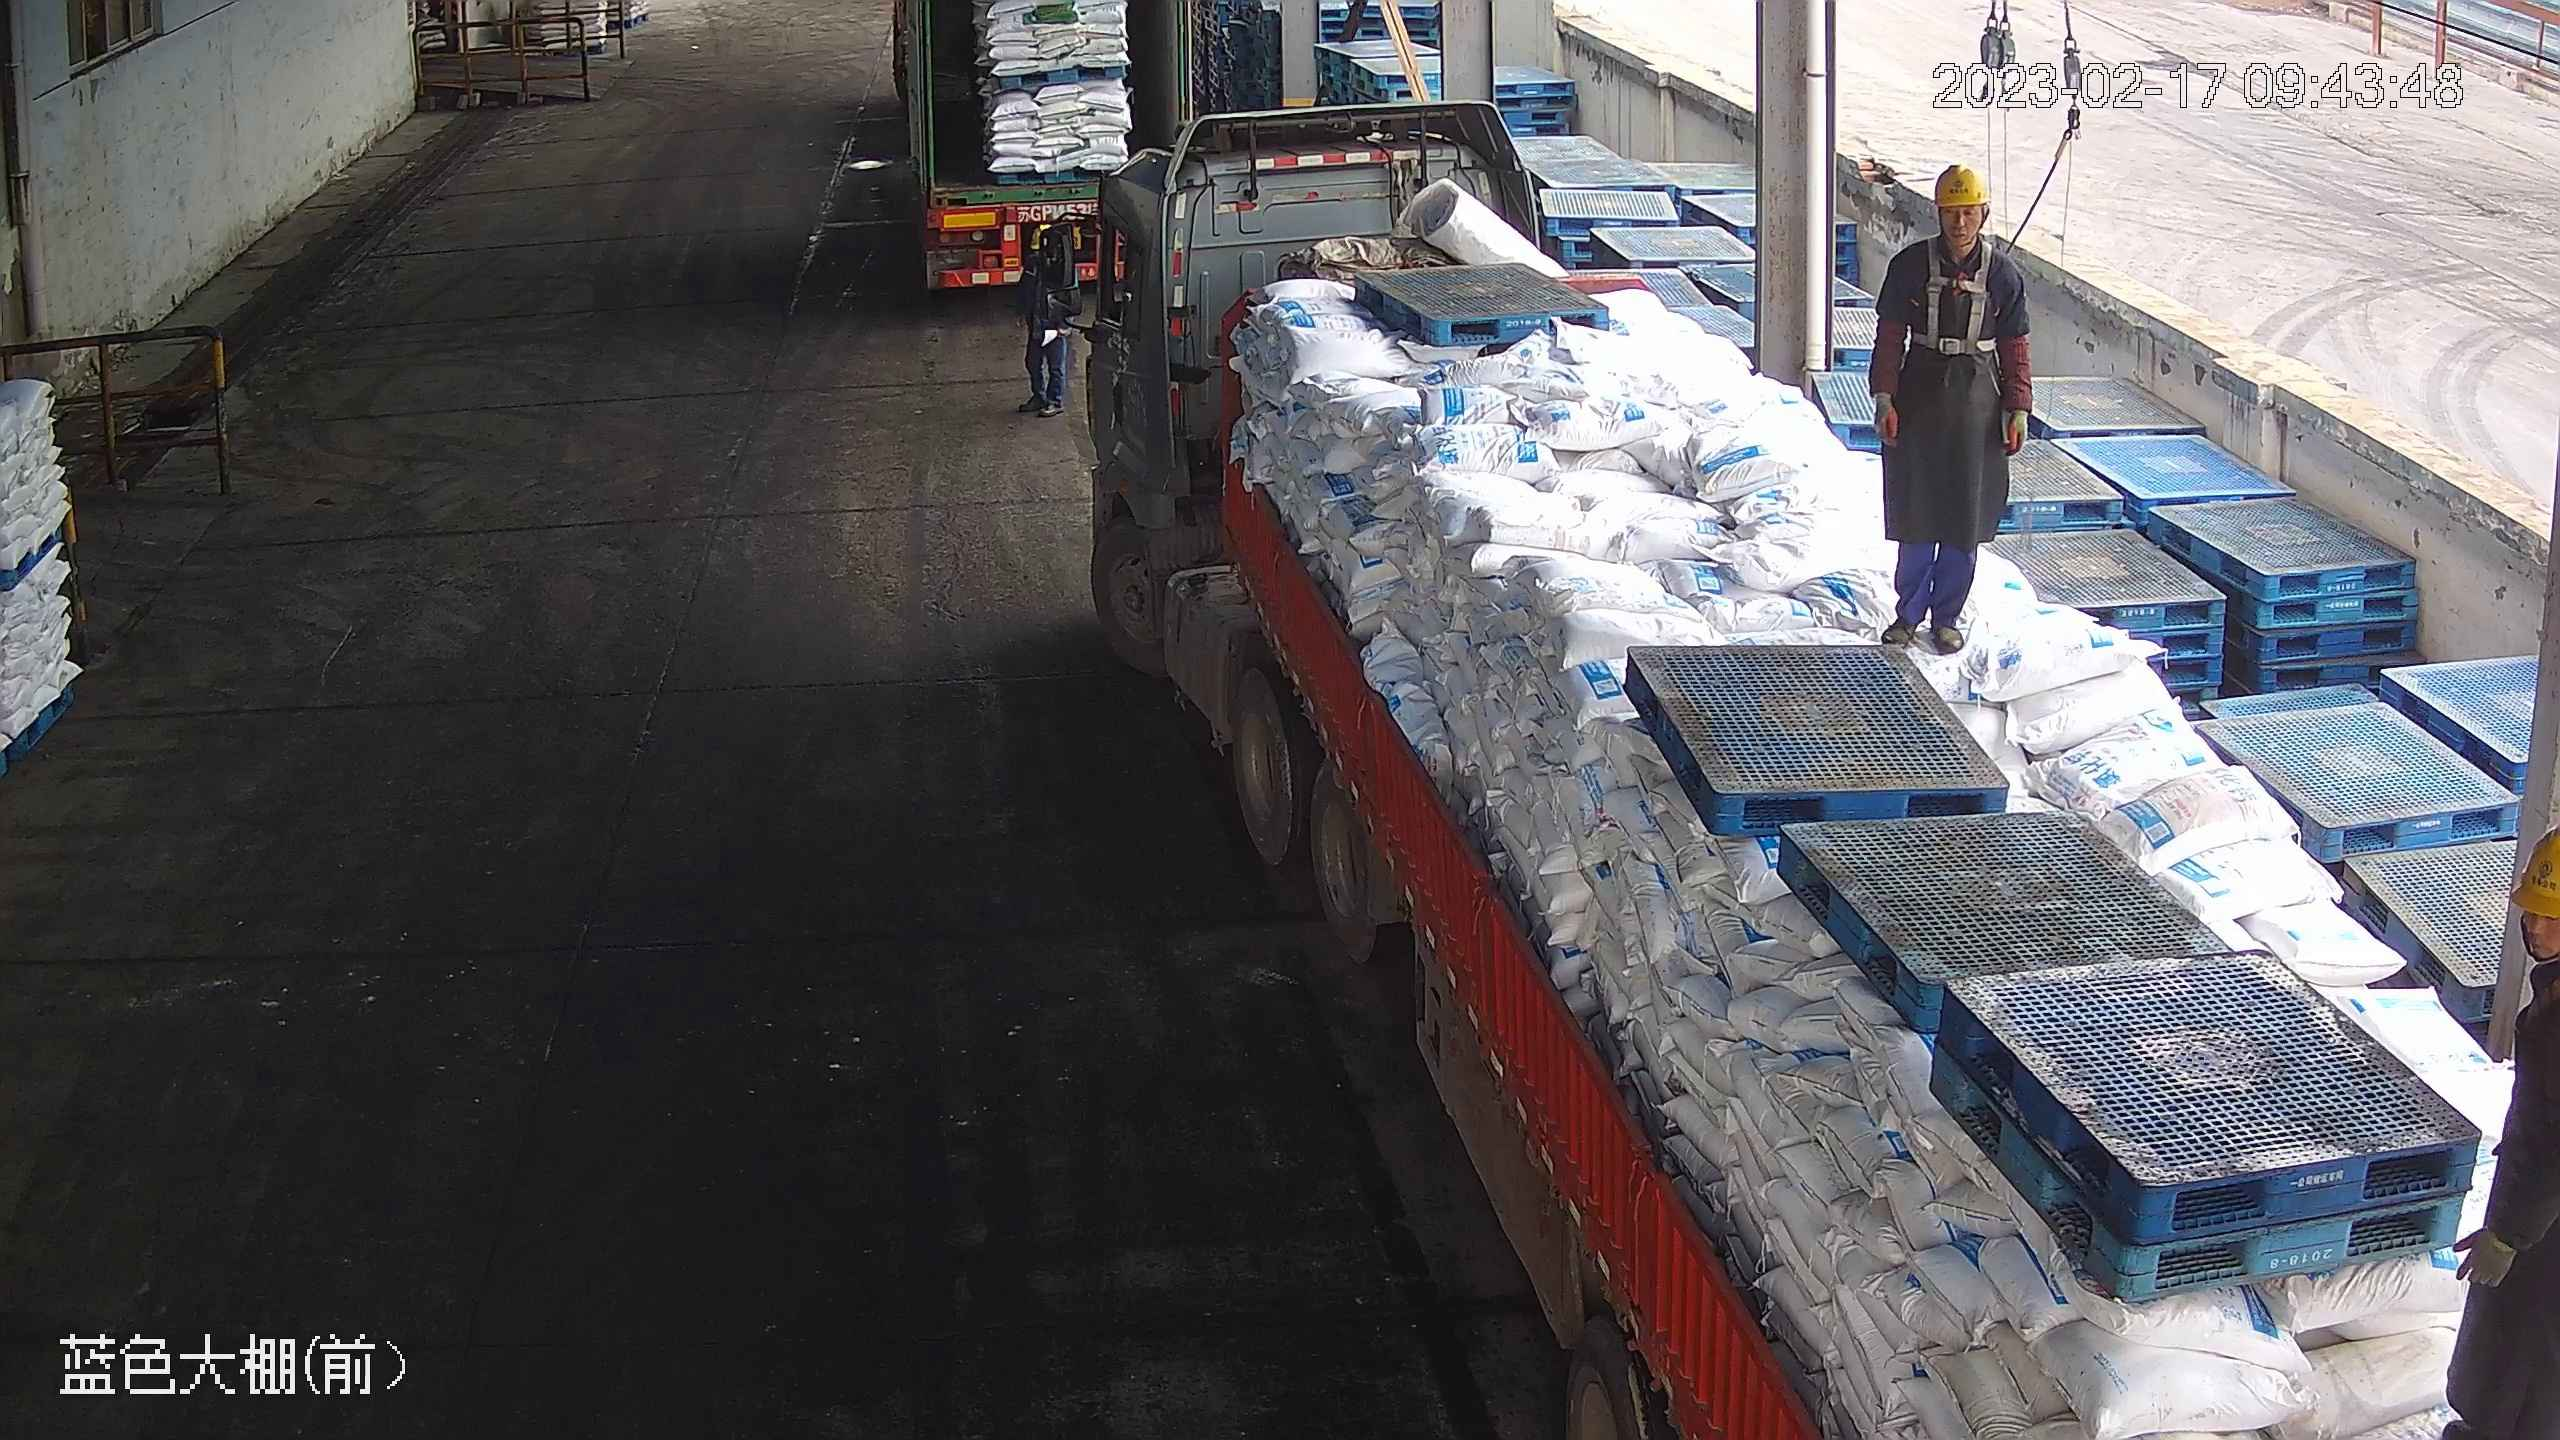belt: (1910, 230, 2007, 354)
head: (1882, 161, 2026, 296)
helmet: (1929, 159, 1990, 209)
people: (1864, 156, 2037, 660), (1009, 211, 1073, 416)
truck: (1090, 93, 2559, 1440), (885, 4, 1209, 310)
